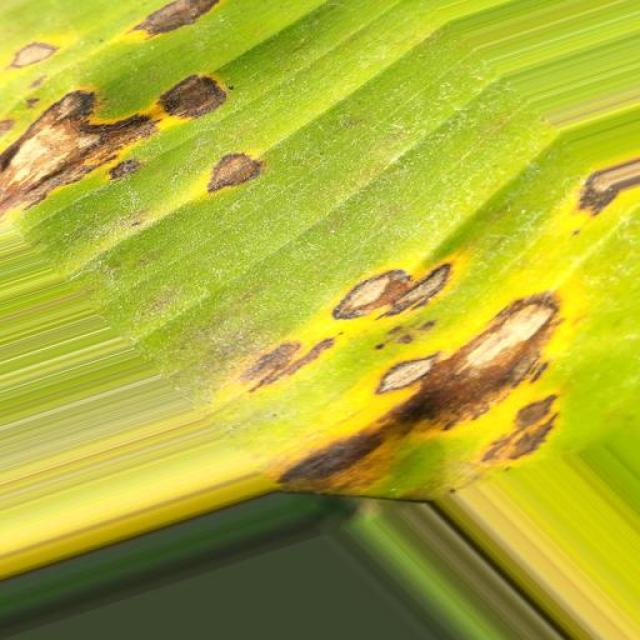Early_rust: (0, 14, 640, 523)
